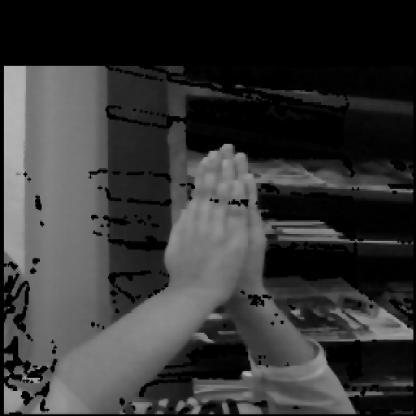namaste: (144, 137, 303, 333)
